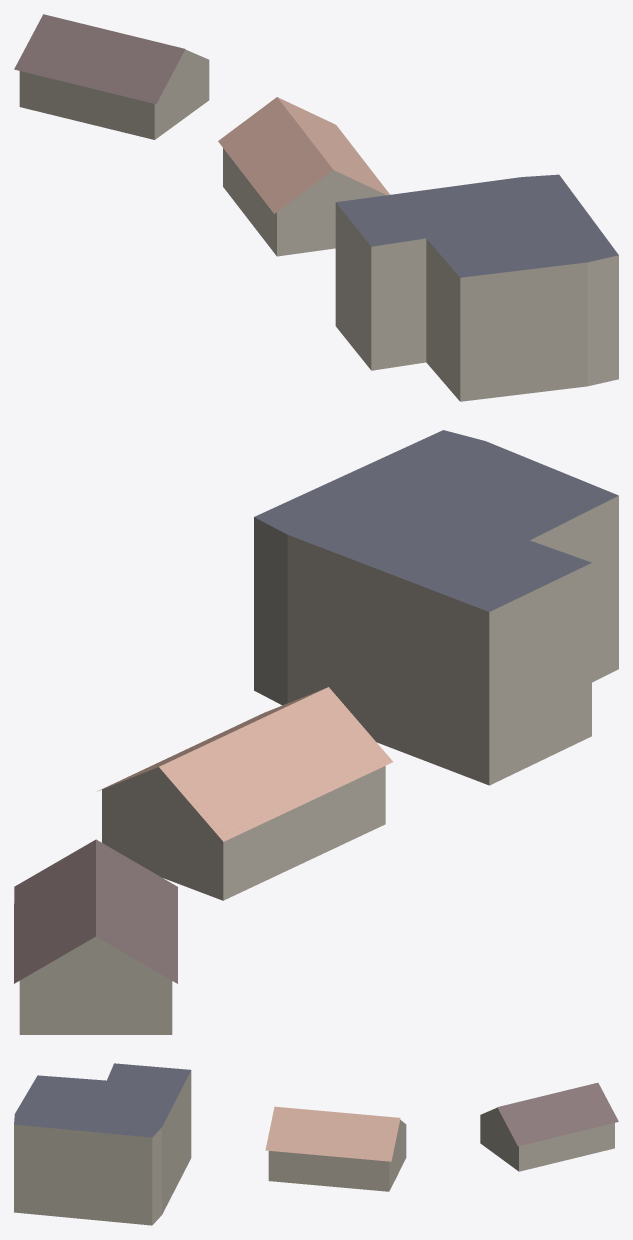
3 renders of one model, top to bottom at view 1: azimuth 30°, elevation 25°; view 2: azimuth 150°, elevation 25°; view 3: azimuth 270°, elevation 25°, orthographic. The views are drawn at different scales.
Visible parts, largest first — view 1: tuile; view 2: tuile; view 3: tuile.
Boxes of the visible parts, box(x1,y1,x2,y2) form: tuile: box(14, 14, 618, 401); tuile: box(14, 430, 618, 1034); tuile: box(14, 1063, 618, 1225).
Size of the model in its own units: 24.68 by 11.92 by 74.32.
